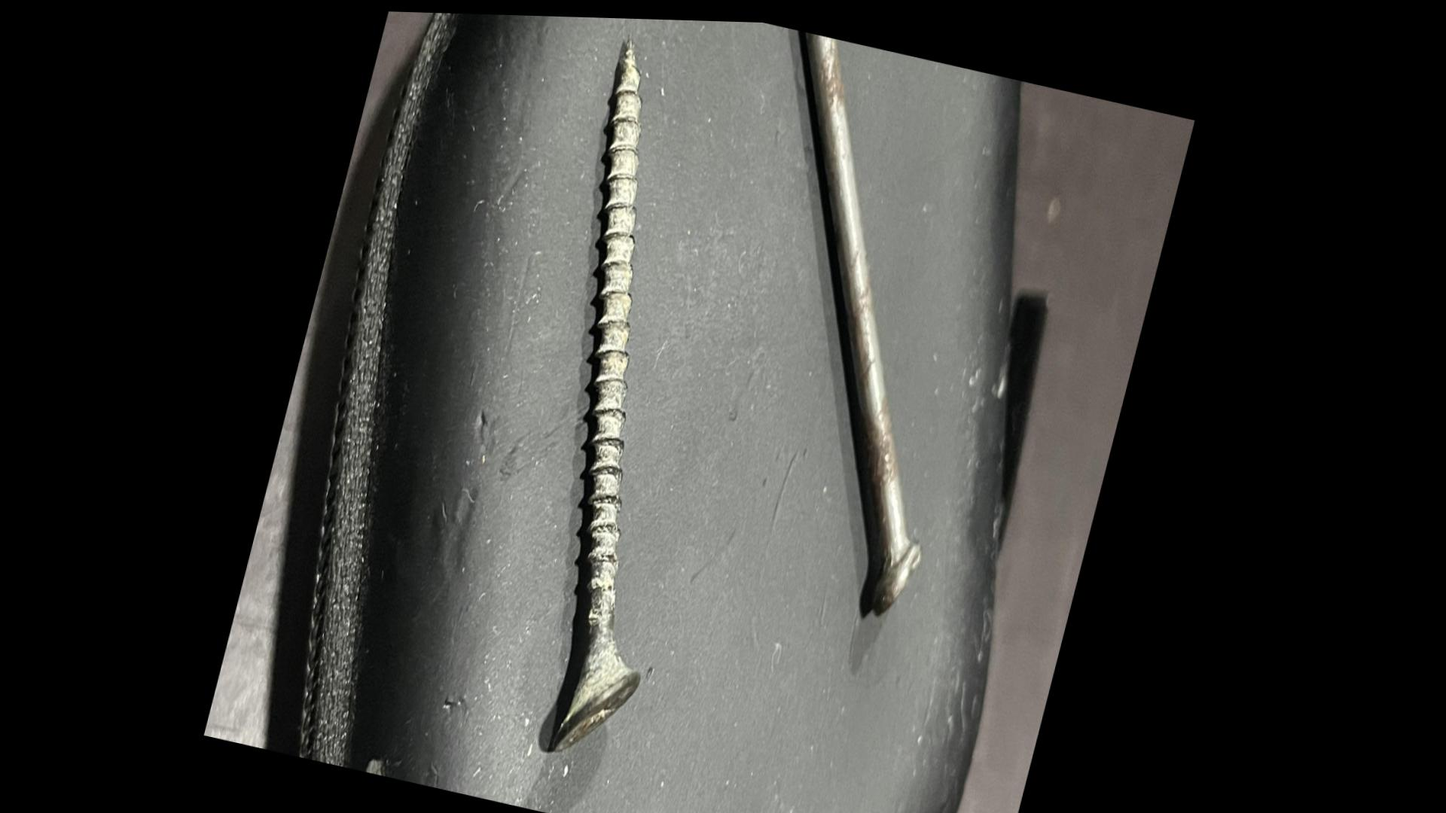nail: (605, 15, 1057, 642)
screw: (438, 11, 819, 813)
